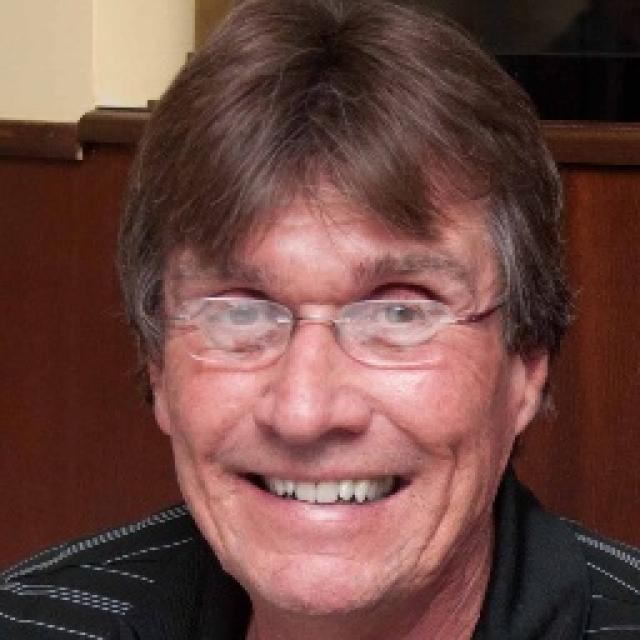earlobe: (512, 388, 538, 439), (150, 388, 172, 438)
eye: (209, 296, 281, 333), (364, 296, 433, 327)
nose: (257, 425, 369, 463)
wholeear: (512, 293, 552, 440), (135, 293, 173, 438)
